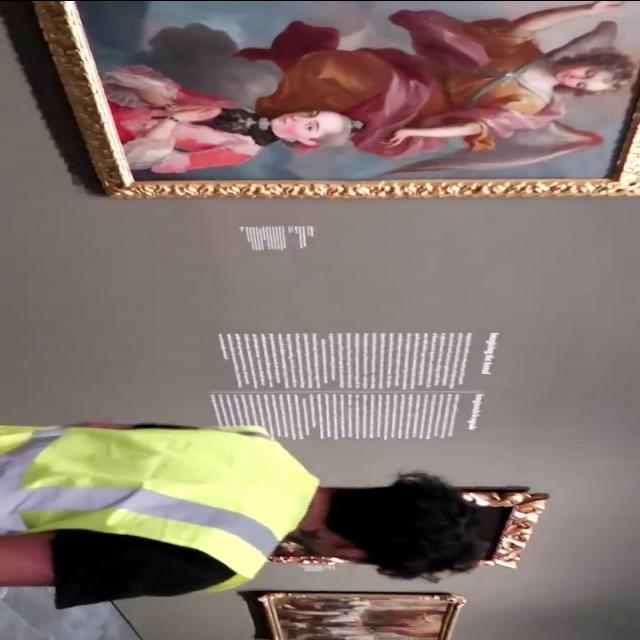jacket: (0, 414, 321, 602)
